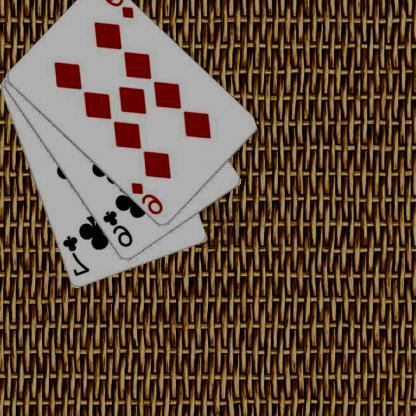7C: (62, 233, 92, 278)
9C: (102, 208, 136, 249)
9D: (130, 180, 166, 217), (102, 0, 137, 20)
